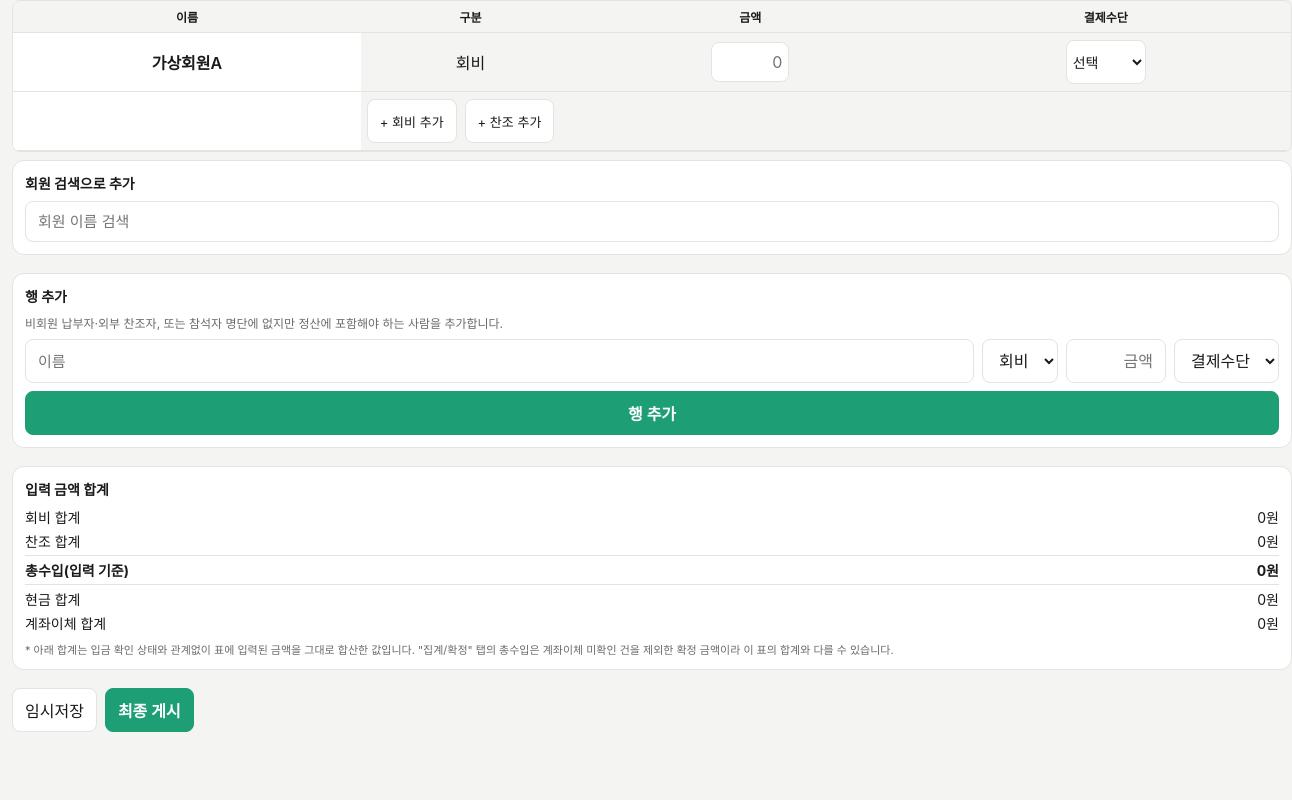
Test: 3. 계좌이체 회비 › 상태 select 노출, 기본값 미확인, 총수입 제외, 미확인 합계 포함
The image size is (1292, 800).
Step 1. Type "30000" into the field named "가상회원A 회비 금액" → (750, 62), box [711,42,789,82]
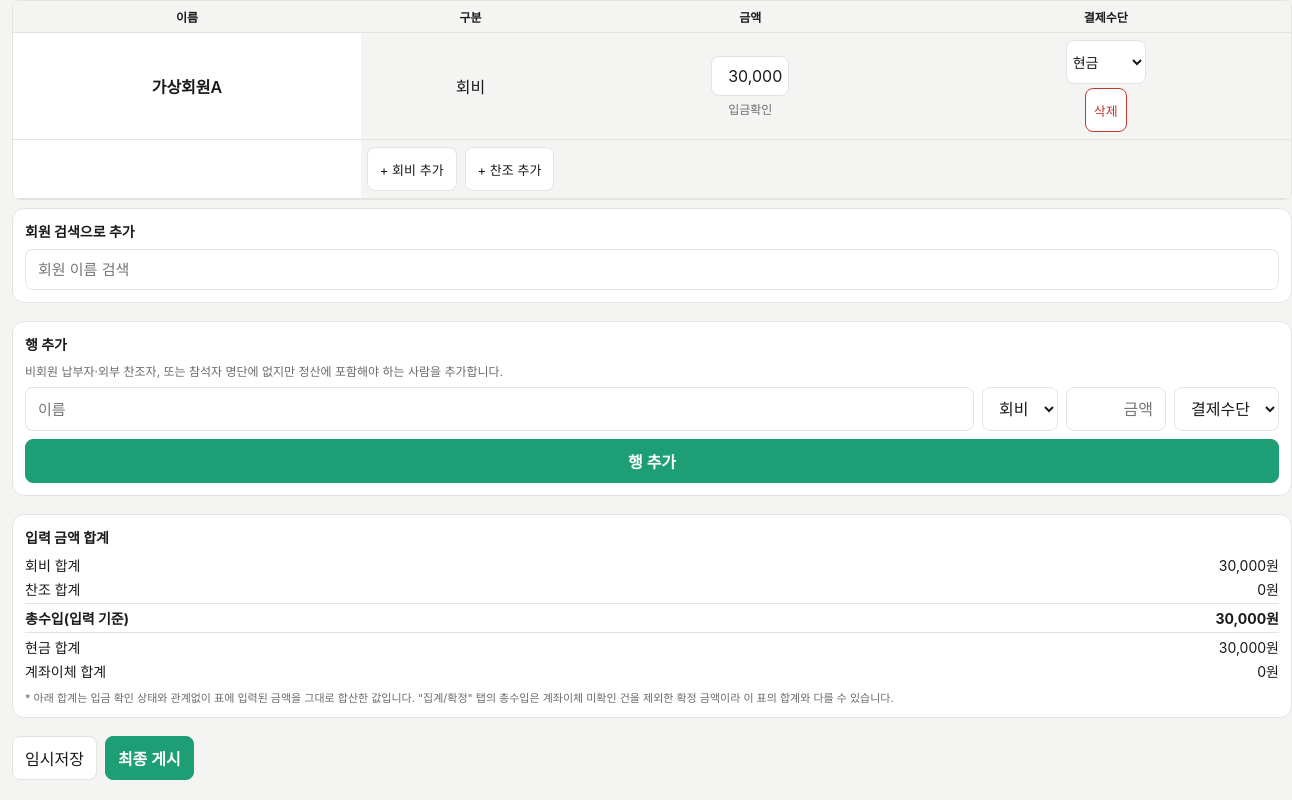
Step 2. Select "계좌이체" in the dropdown named "가상회원A 회비 결제수단" → (1106, 62), box [1066,40,1146,84]
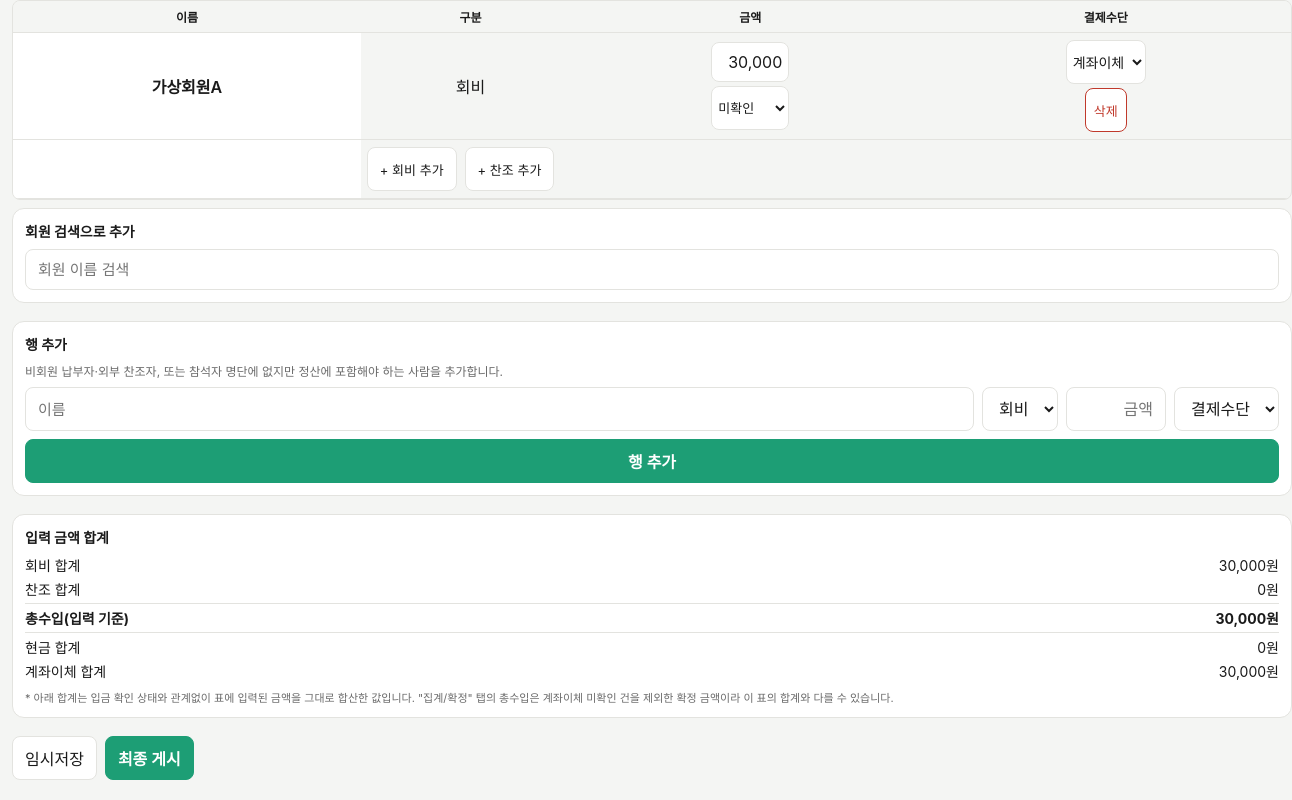
Check: the dropdown named "가상회원A 회비 확인상태" shows "미확인", box [711,86,789,130]
